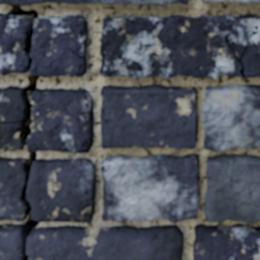brick: (100, 15, 259, 77), (102, 154, 198, 221), (101, 85, 197, 148), (202, 85, 259, 150), (205, 154, 259, 222), (194, 225, 259, 259), (0, 0, 187, 4), (243, 31, 259, 77), (205, 0, 259, 2)
broken_brick: (27, 224, 183, 259), (28, 157, 96, 223), (28, 87, 94, 153), (31, 14, 88, 78), (0, 12, 28, 76), (0, 156, 26, 221), (0, 85, 24, 120), (0, 223, 23, 259), (0, 124, 23, 150)
crack: (0, 2, 40, 259), (222, 25, 259, 78), (100, 161, 106, 173), (9, 67, 15, 72)
